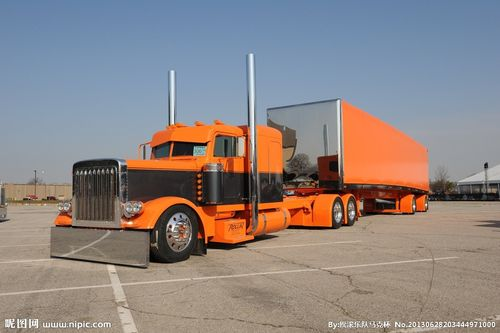卡车: (54, 84, 441, 271)
